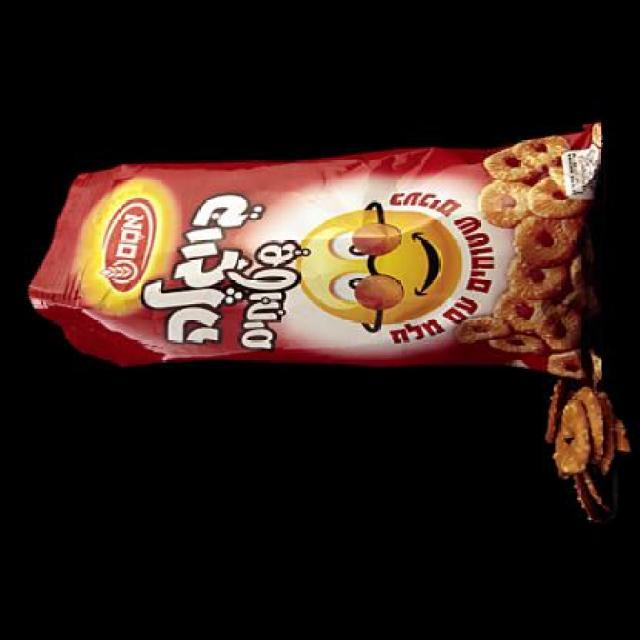Chips: (25, 117, 608, 377)
